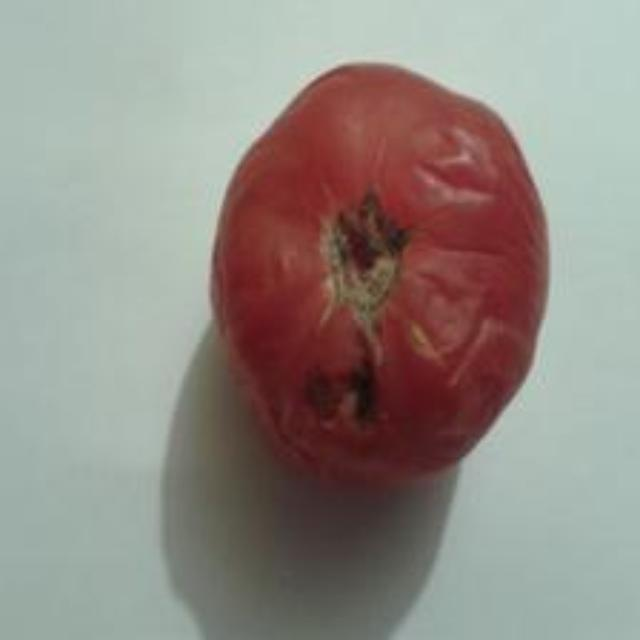defect: (208, 50, 557, 488)
